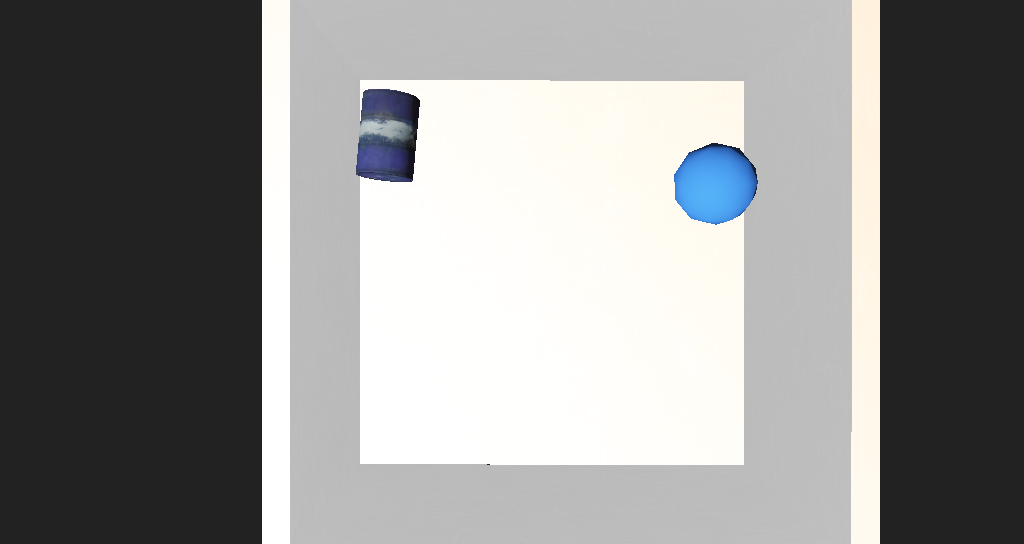cone: (347, 169, 408, 222)
cylinder: (569, 403, 657, 484)
sphere: (603, 196, 664, 243)
